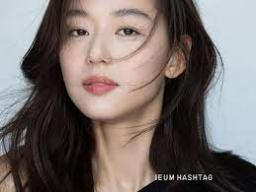face: (60, 0, 164, 118)
